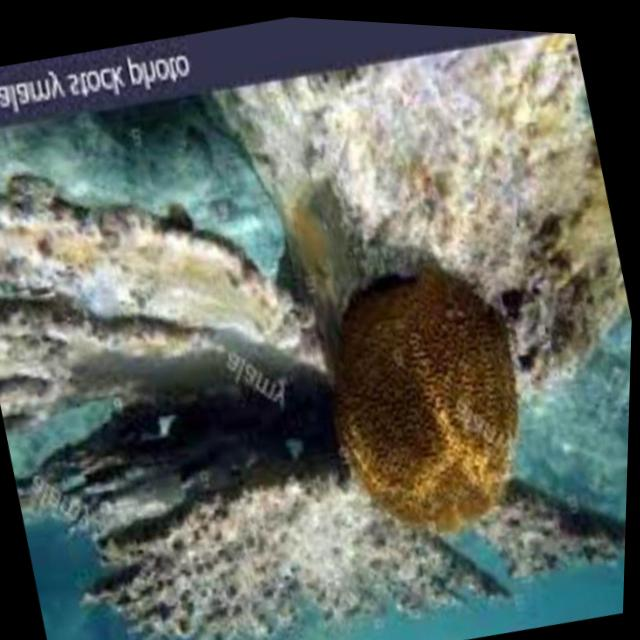Dead Coral: (16, 159, 362, 640)
Healthy Coral: (292, 221, 568, 552)
